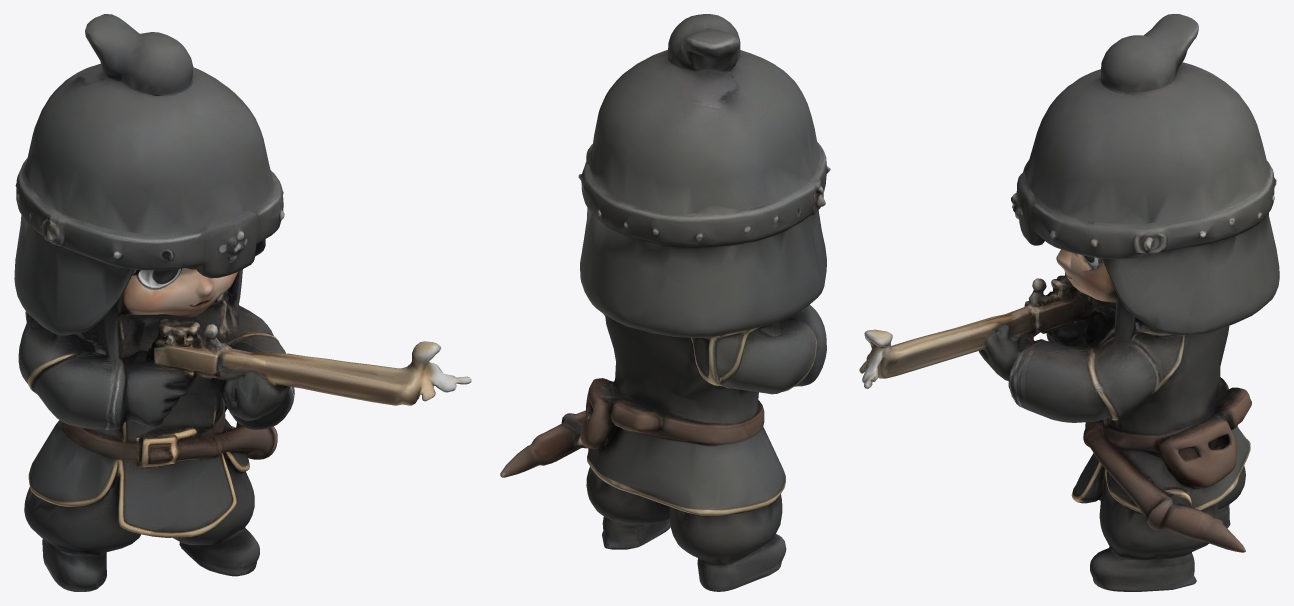
Rendered from crossbowman.glb.
The picture shows the model from 3 angles, left to right: view 1: azimuth 30°, elevation 25°; view 2: azimuth 150°, elevation 25°; view 3: azimuth 270°, elevation 25°; orthographic projection. The views are drawn at different scales.
Size of the model in its own units: 1.13 by 2 by 1.47.
Materials: 1 (1 with a texture image).
